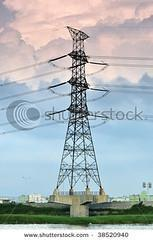power_tower: (42, 25, 111, 200)
